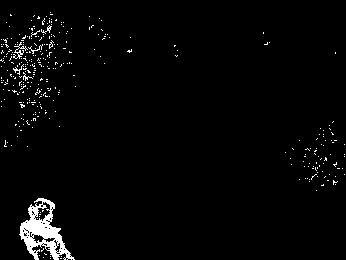person: (18, 193, 74, 260)
